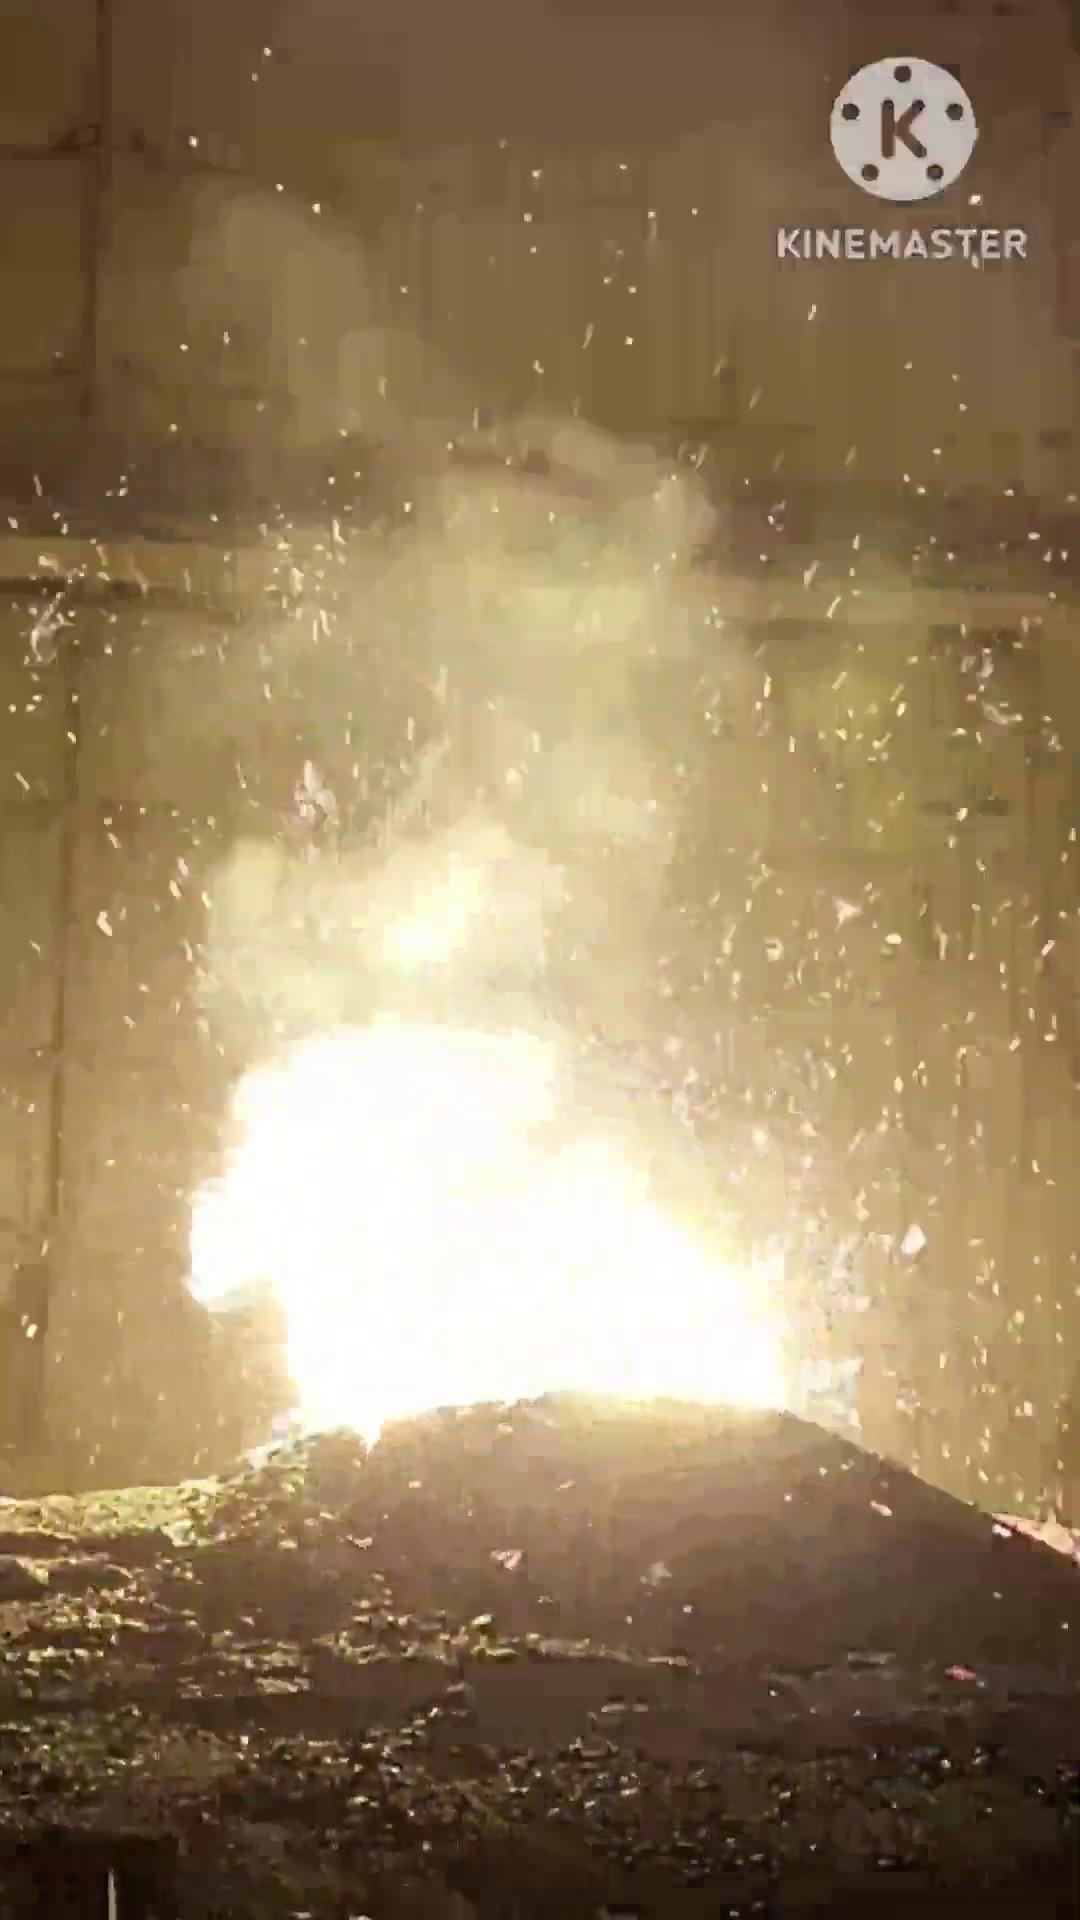fire: (87, 363, 972, 1727)
